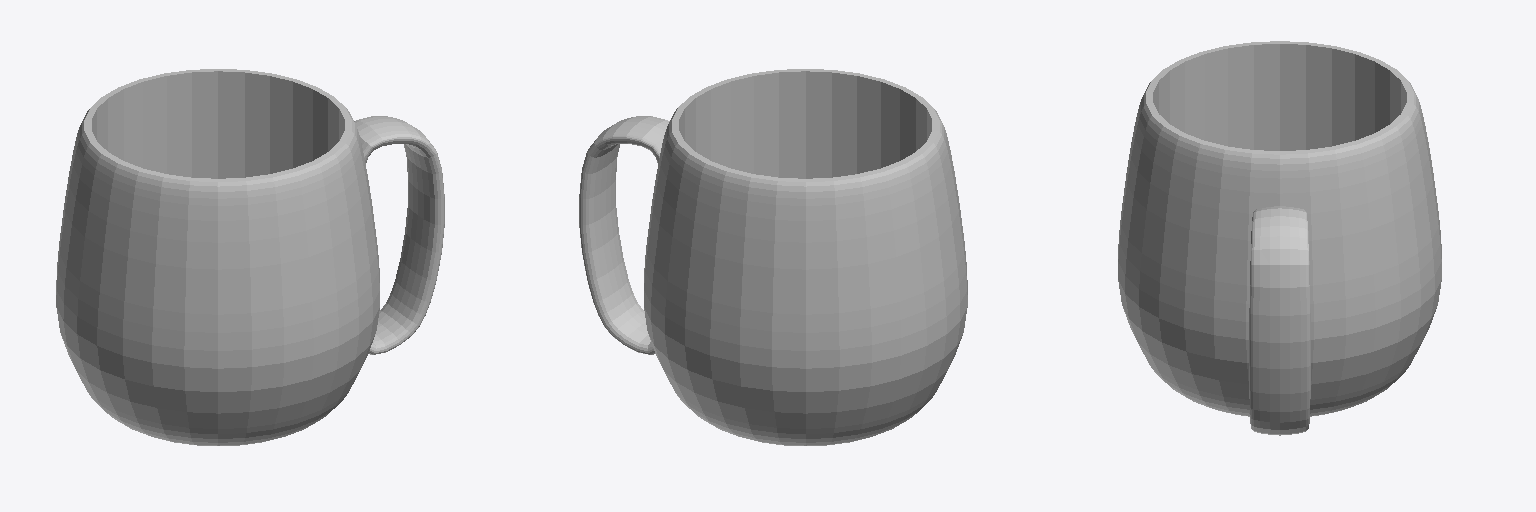
File: mug.obj
3 renders of one model, left to right at view 1: azimuth 30°, elevation 25°; view 2: azimuth 150°, elevation 25°; view 3: azimuth 270°, elevation 25°, orthographic.
Parts seen in each view (by area): view 1: IVCON; view 2: IVCON; view 3: IVCON.
Boxes of the visible parts, x1=… form: IVCON: x1=56, y1=69, x2=444, y2=445; IVCON: x1=579, y1=69, x2=967, y2=445; IVCON: x1=1118, y1=41, x2=1441, y2=435.
Bounding box in the file's own units: 133 × 100 × 105.